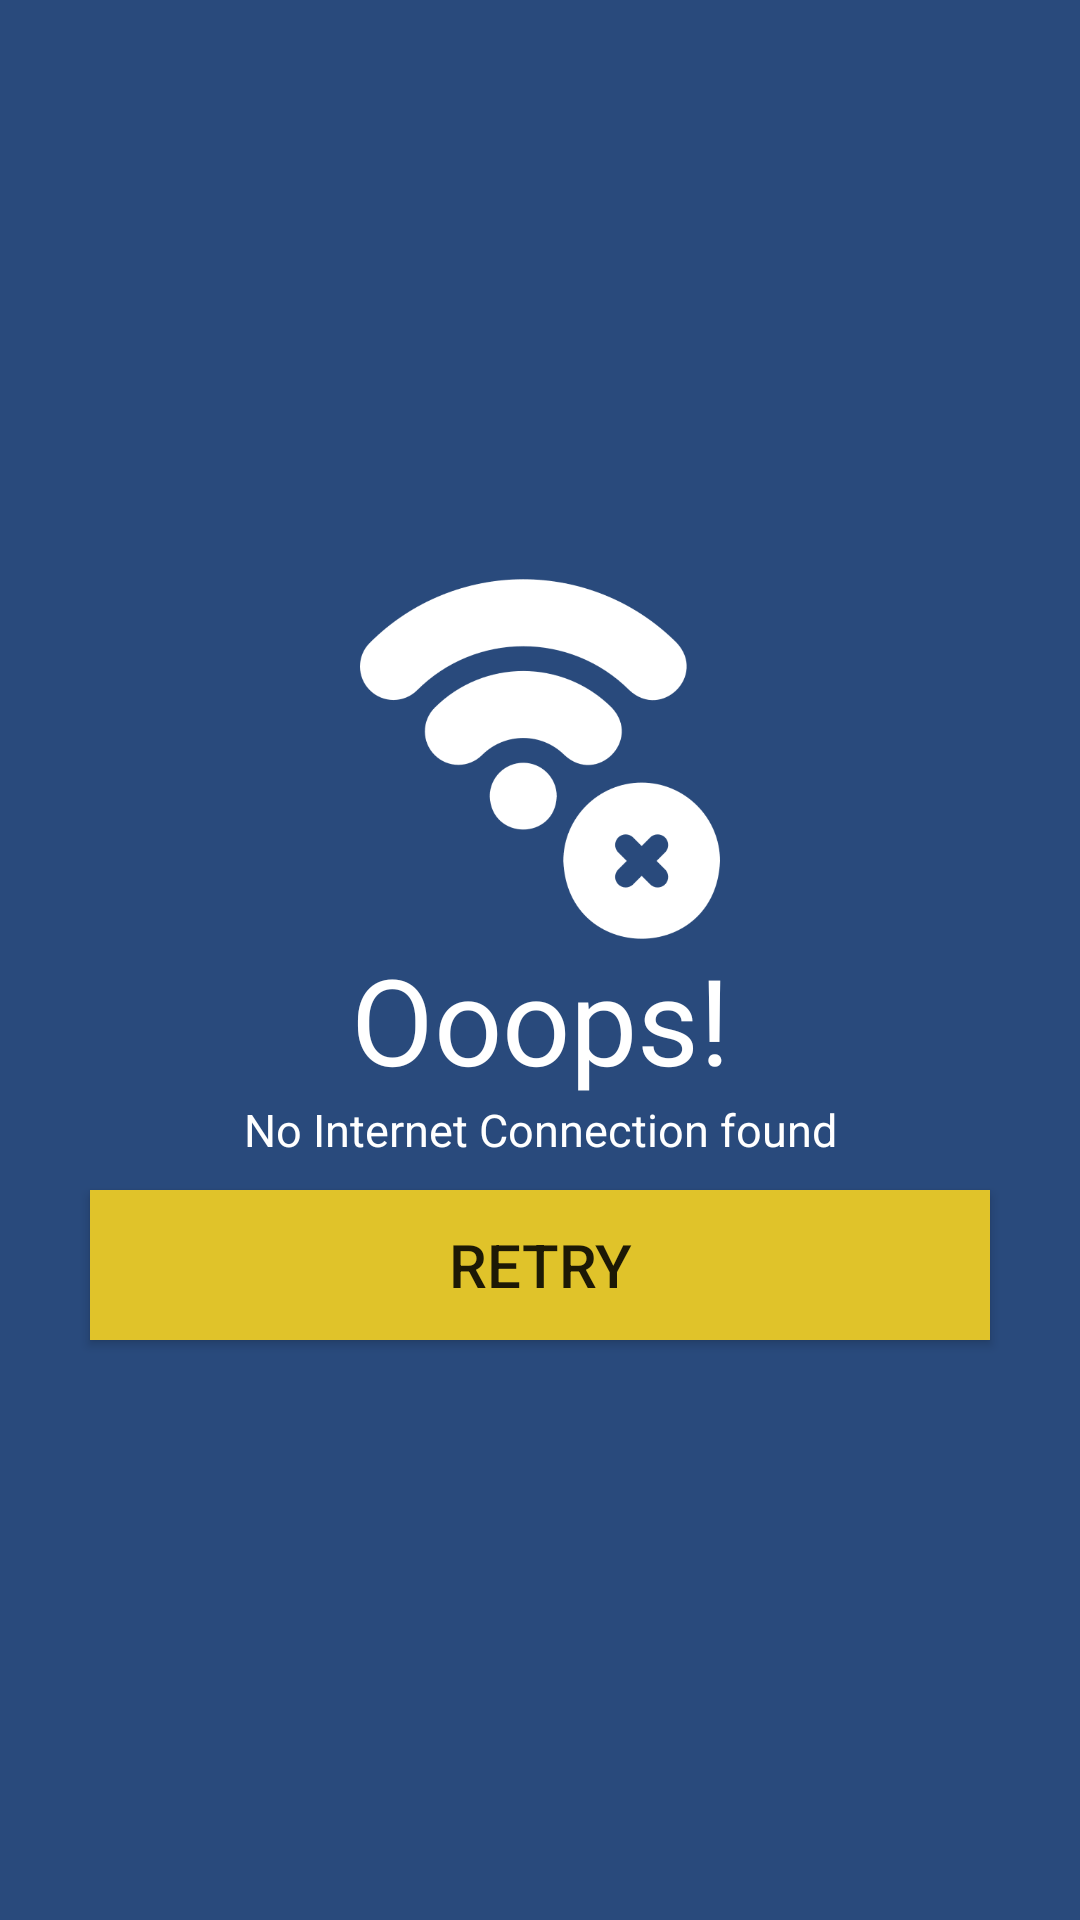

Icon click points for this 1080px×1920px phone screenshot, format [x,y]:
no wifi: [540,759]
